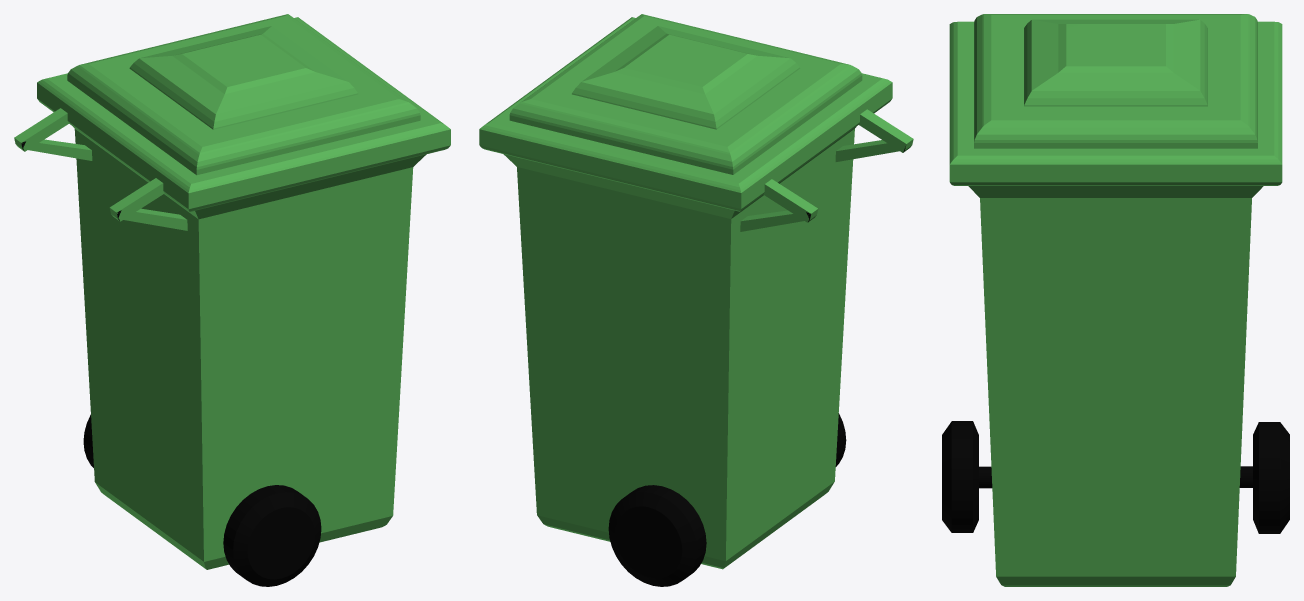
Rendered from recycling_bin.glb.
3 views of the same model, side by side, from view 1: azimuth 30°, elevation 25°; view 2: azimuth 150°, elevation 25°; view 3: azimuth 270°, elevation 25° (orthographic). The views are drawn at different scales.
Parts seen in each view (by area): view 1: Cube.002_2; view 2: Cube.002_2; view 3: Cube.002_2.
Part boxes in pixels (x1,y1,x2,y2): Cube.002_2: [14, 14, 450, 586]; Cube.002_2: [479, 14, 913, 586]; Cube.002_2: [942, 14, 1289, 586].
Size of the model in its own units: 1.62 by 2.31 by 1.44.
Materials: 1 (1 with a texture image).
